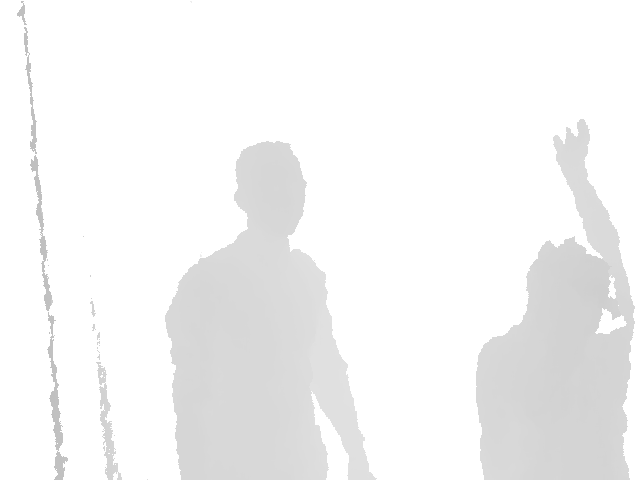hand: (553, 119, 590, 168)
head: (524, 237, 610, 334), (234, 140, 306, 234)
person: (164, 139, 377, 480), (474, 119, 637, 480)
